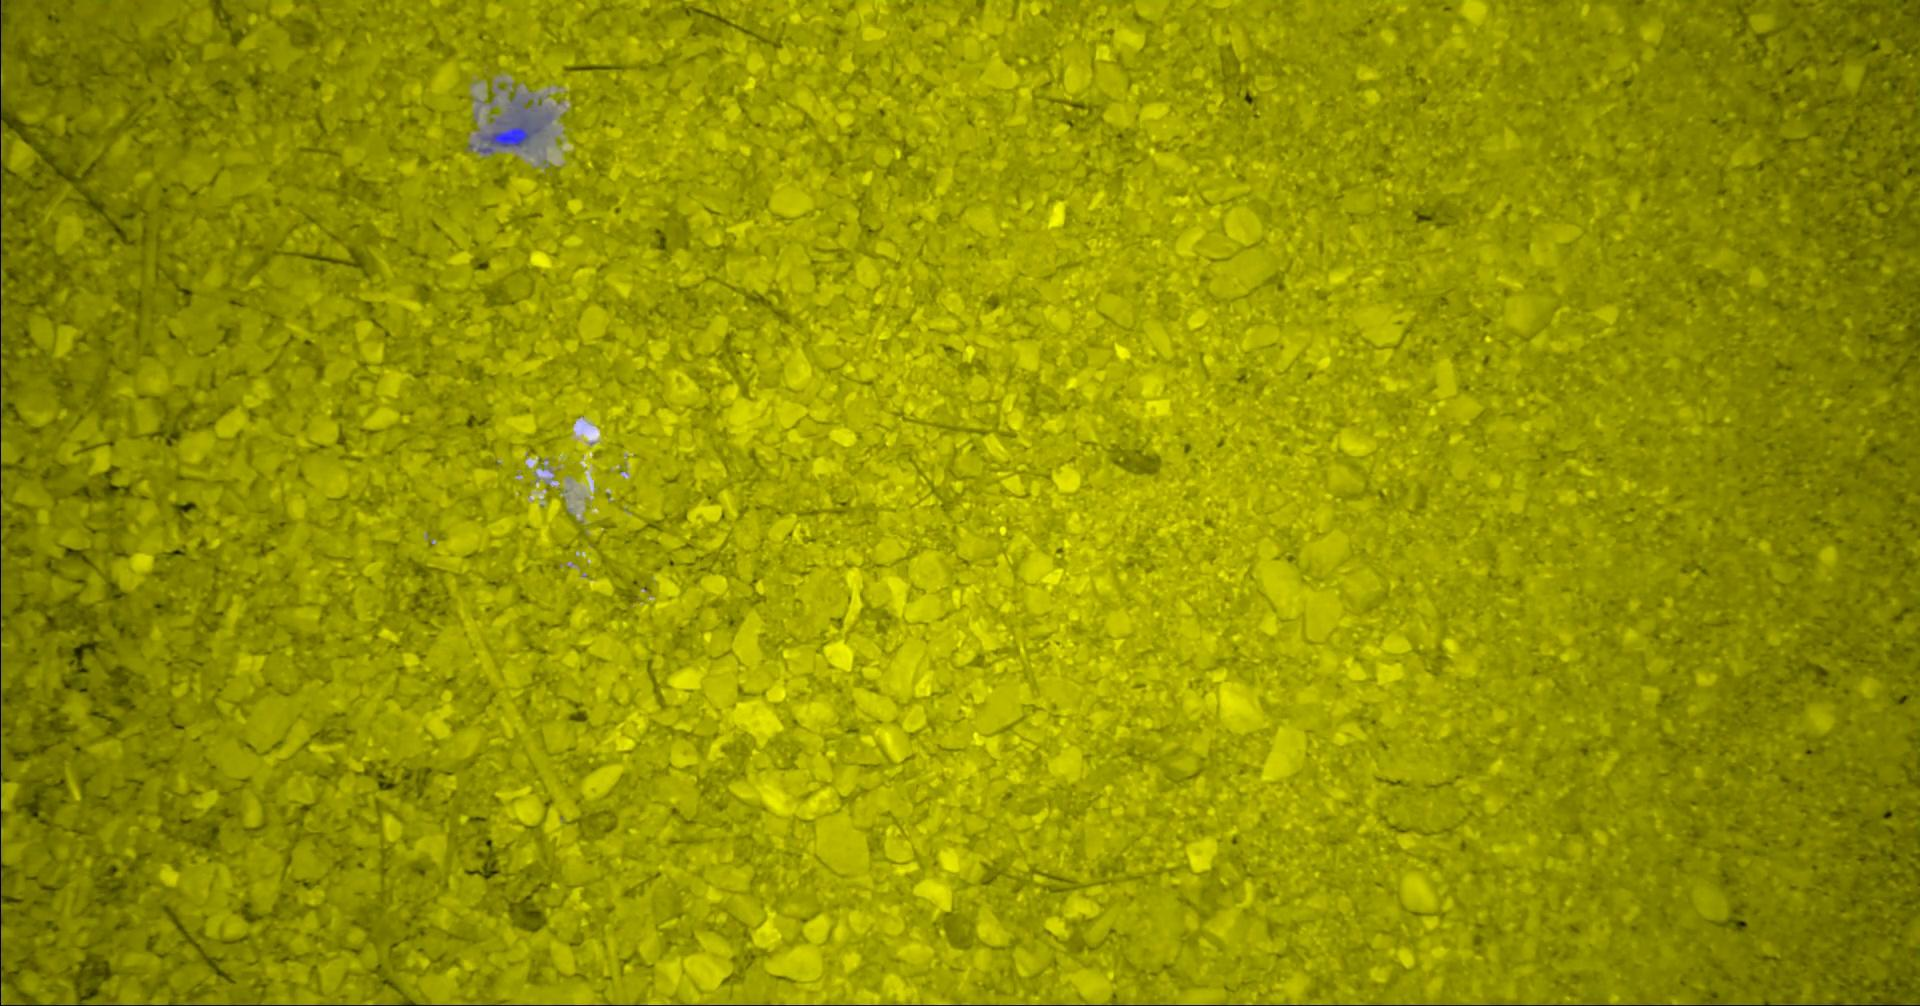ant: (483, 119, 538, 146), (0, 0, 1, 52)
